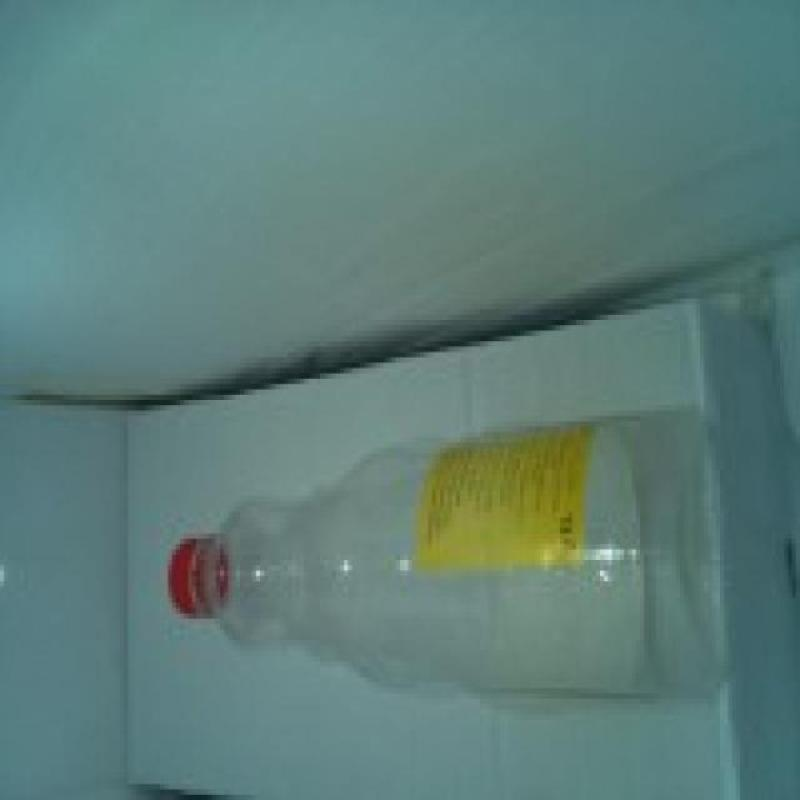botella: (168, 410, 724, 714)
